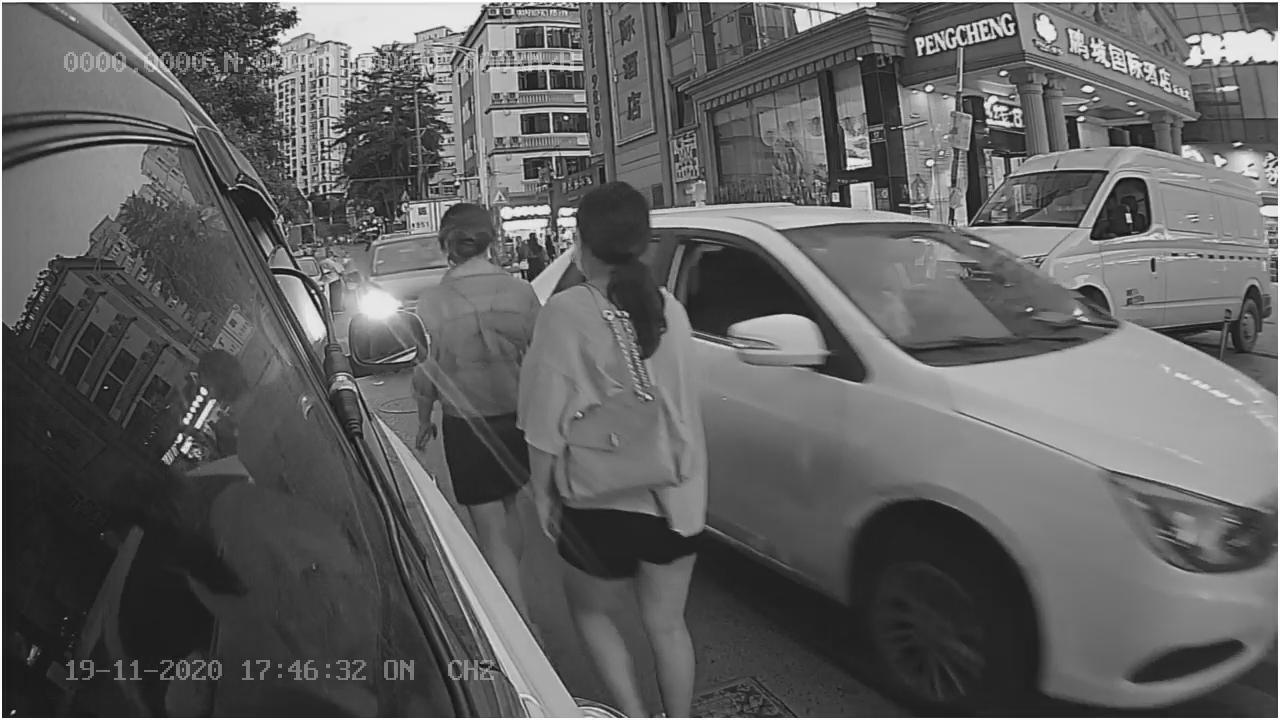person: (525, 178, 712, 646)
